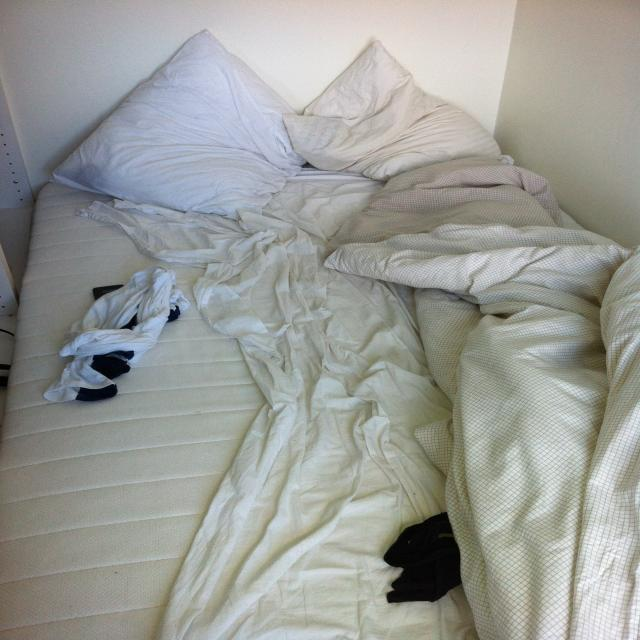bed: (12, 23, 640, 640)
